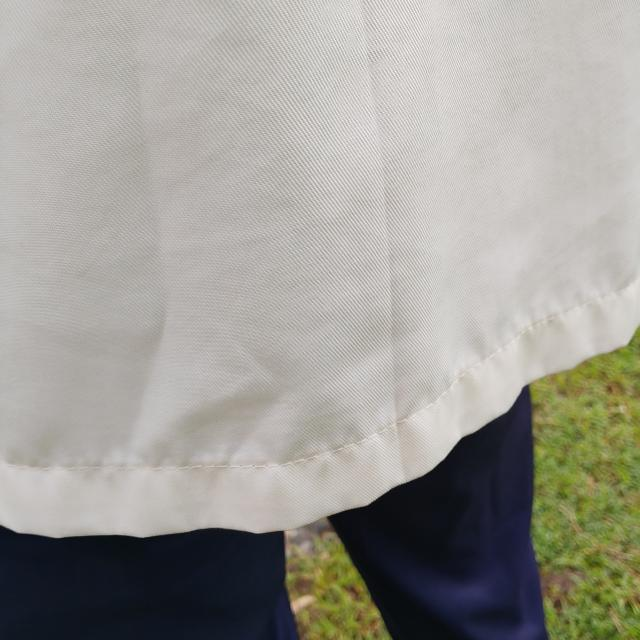education_male_uniform: (0, 0, 617, 595)
